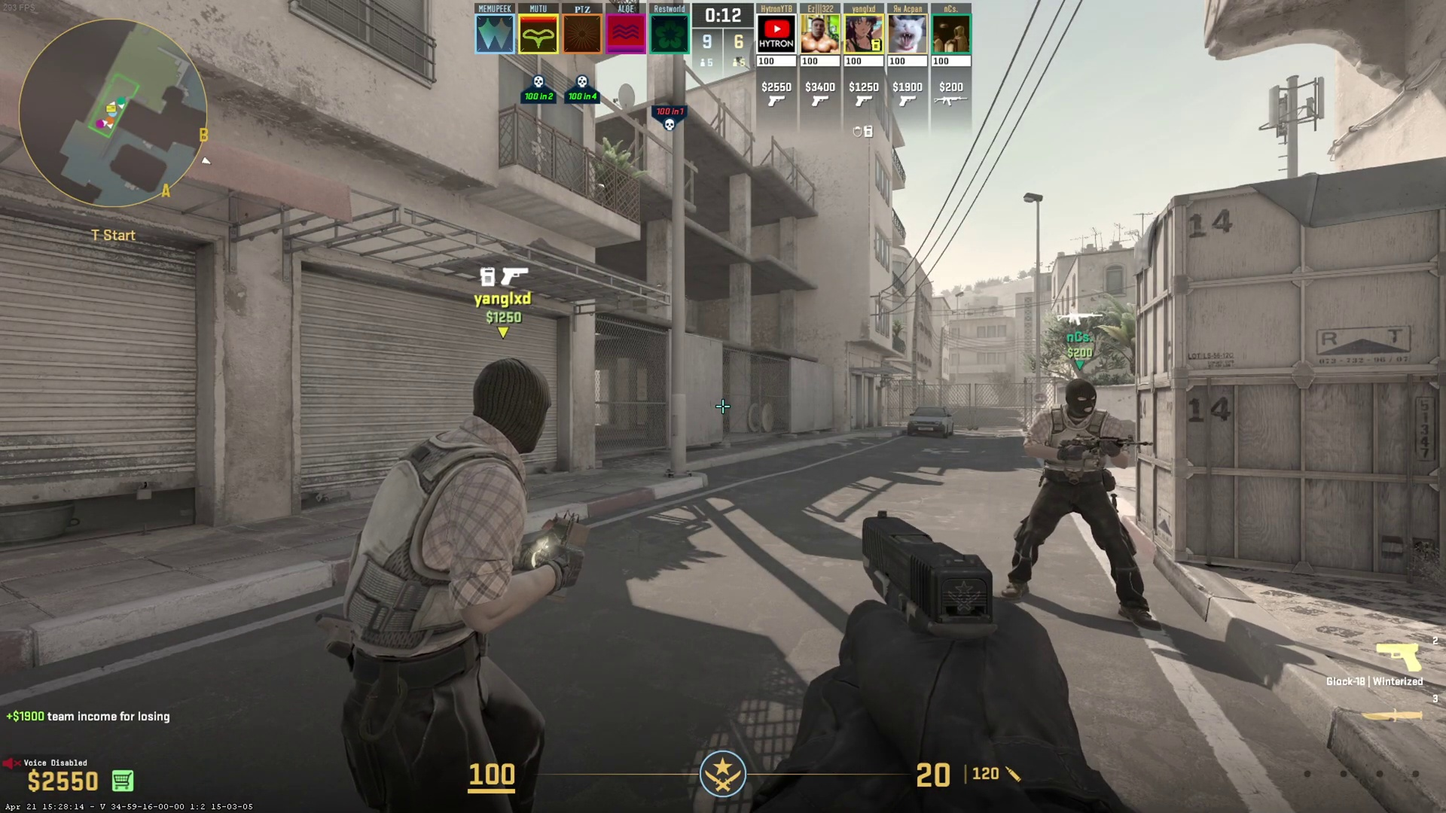Terrorist: (335, 361, 555, 792), (1028, 379, 1149, 621)
